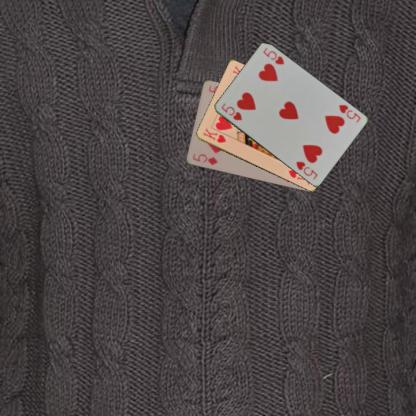5d: (190, 151, 218, 166)
5h: (336, 102, 362, 124), (219, 100, 244, 122)
Kh: (201, 126, 227, 144)
